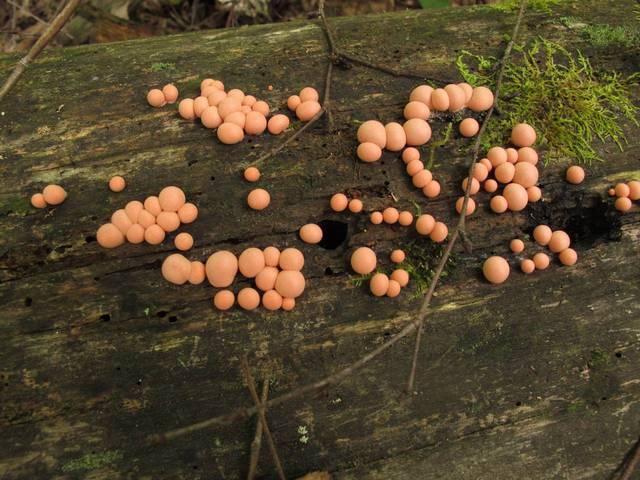Non-edible Mushroom: (36, 72, 592, 313), (145, 76, 321, 144), (160, 252, 191, 285), (481, 254, 510, 284), (41, 183, 67, 205), (246, 187, 270, 210), (298, 222, 323, 244), (565, 164, 585, 184)
